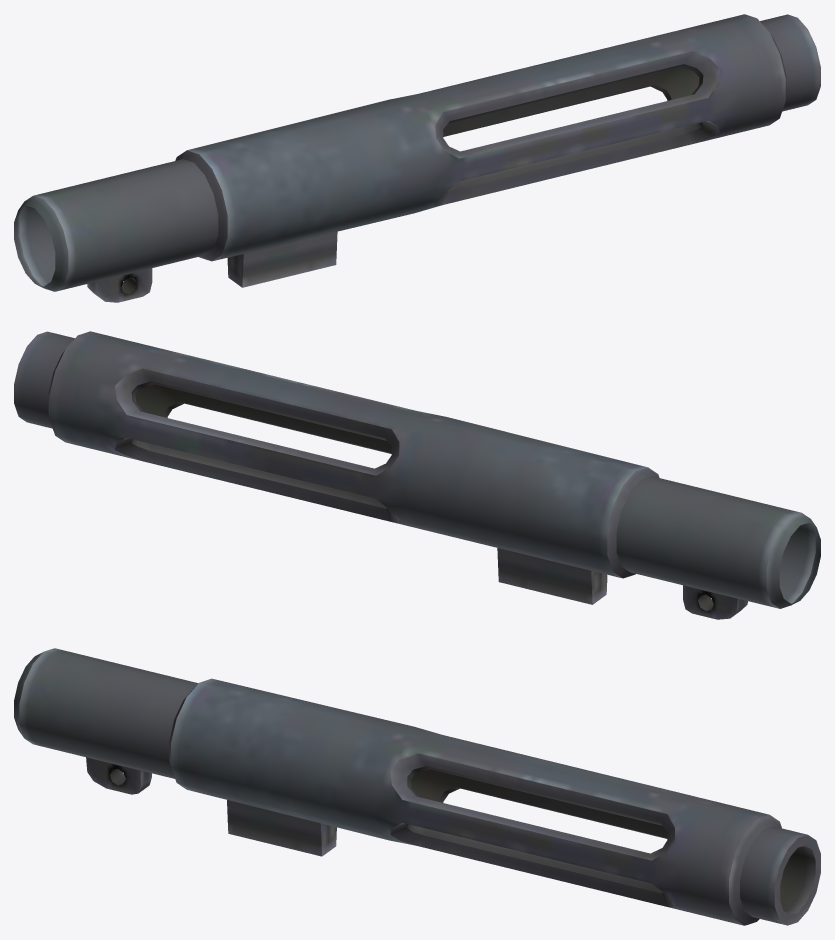
The model's file is ST_WEP_SLR_Muzzle.FBX.
The picture shows the model from 3 angles, top to bottom: view 1: azimuth 30°, elevation 25°; view 2: azimuth 150°, elevation 25°; view 3: azimuth 330°, elevation 25°; orthographic projection.
Parts seen in each view (by area): view 1: ST_WEP_SLR_Muzzle; view 2: ST_WEP_SLR_Muzzle; view 3: ST_WEP_SLR_Muzzle.
Boxes of the visible parts, <box> form: ST_WEP_SLR_Muzzle: <box>14,14,820,302</box>; ST_WEP_SLR_Muzzle: <box>14,331,820,619</box>; ST_WEP_SLR_Muzzle: <box>14,648,820,925</box>.
Bounding box in the file's own units: 18.11 × 3.11 × 2.33.
1 material, 1 textured.
